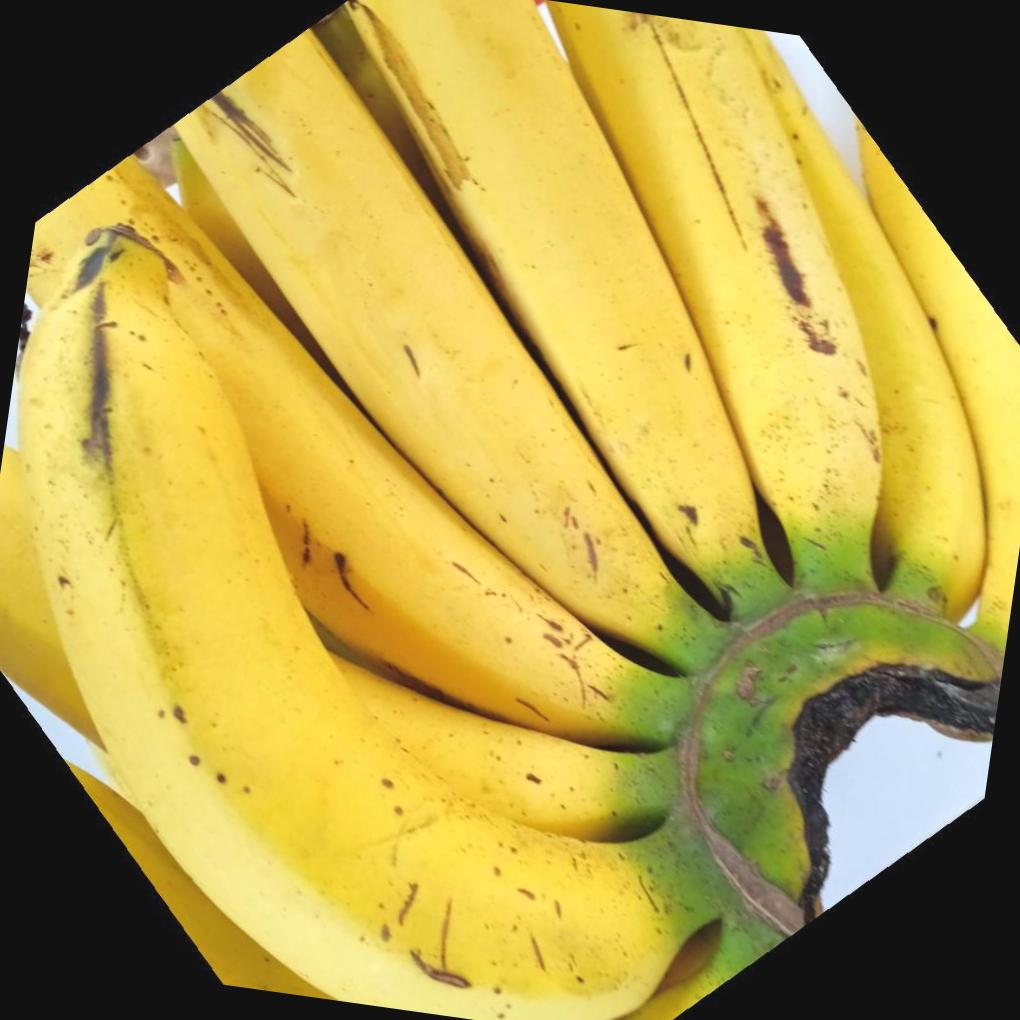Banana Ripe: (0, 89, 989, 1020), (114, 0, 1020, 905)
